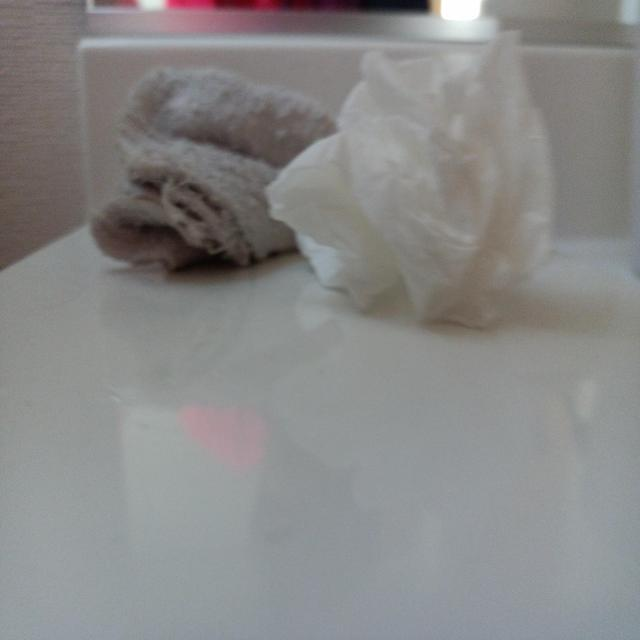Paper: (293, 19, 560, 329)
